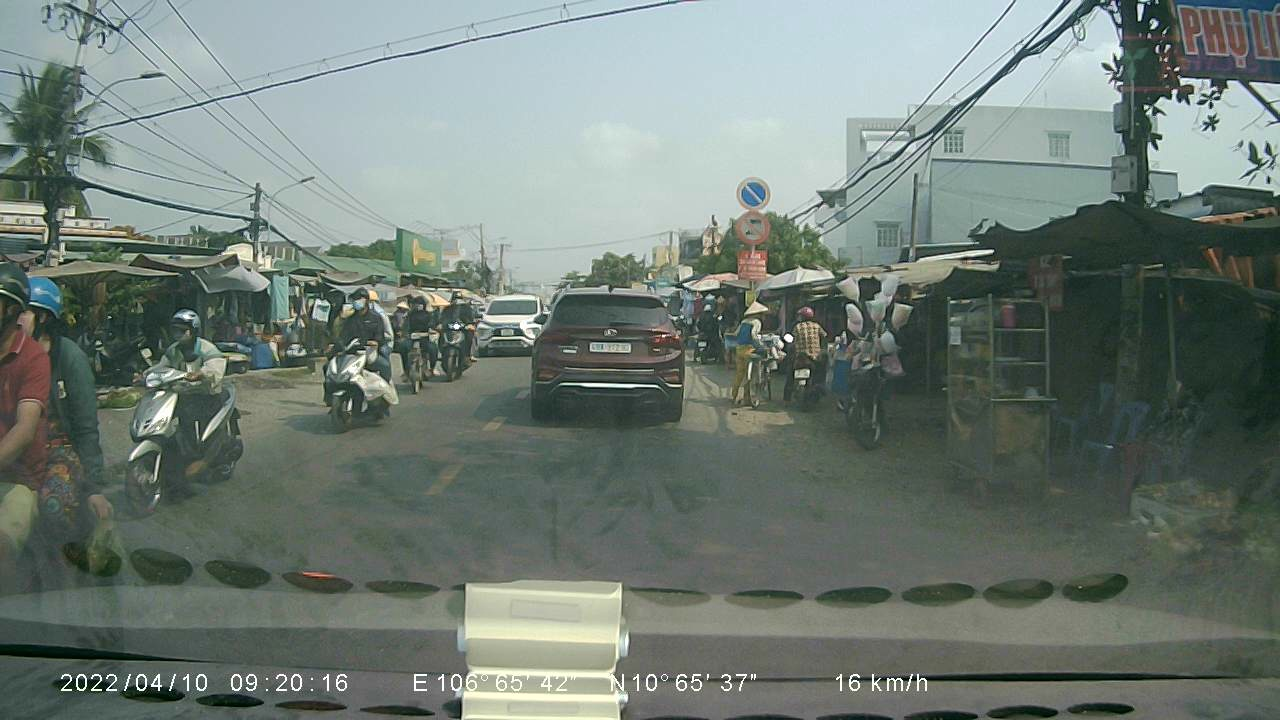Bien khac: (733, 208, 773, 243)
Cam do xe: (732, 174, 772, 210)
